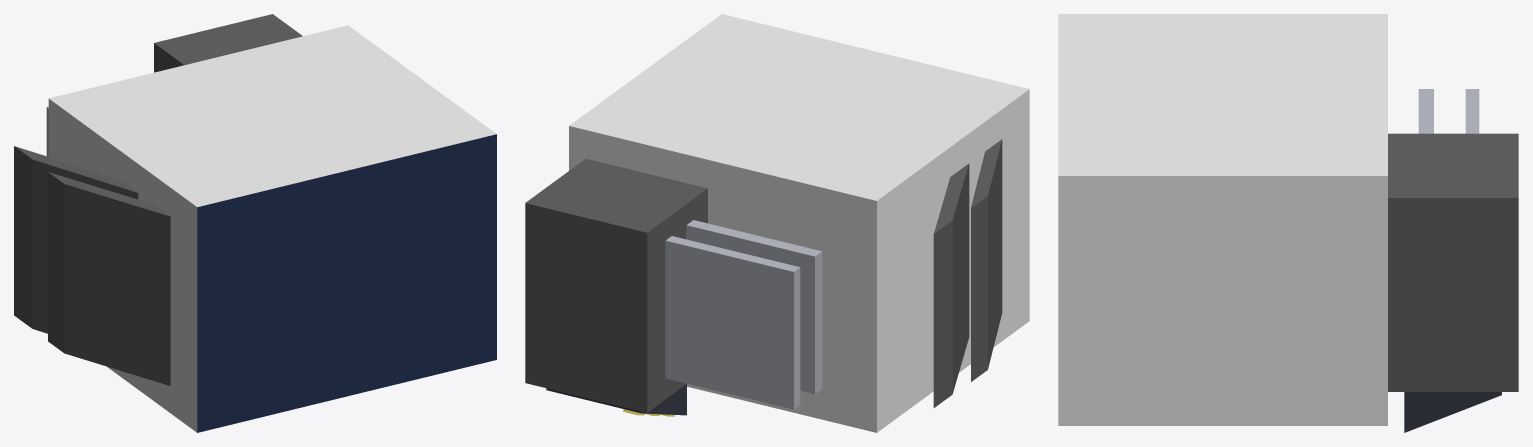
The model's file is Printer.fbx.
3 views of the same model, side by side, from view 1: azimuth 30°, elevation 25°; view 2: azimuth 150°, elevation 25°; view 3: azimuth 270°, elevation 25° (orthographic). The views are drawn at different scales.
Parts seen in each view (by area): view 1: Box001; view 2: Box001; view 3: Box001.
Boxes of the visible parts, x1,y1,x2,y2 form: Box001: (14,14,496,432); Box001: (525,14,1029,432); Box001: (1058,14,1518,432).
Size of the model in its own units: 115 by 78.61 by 120.
Materials: 1 (1 with a texture image).
